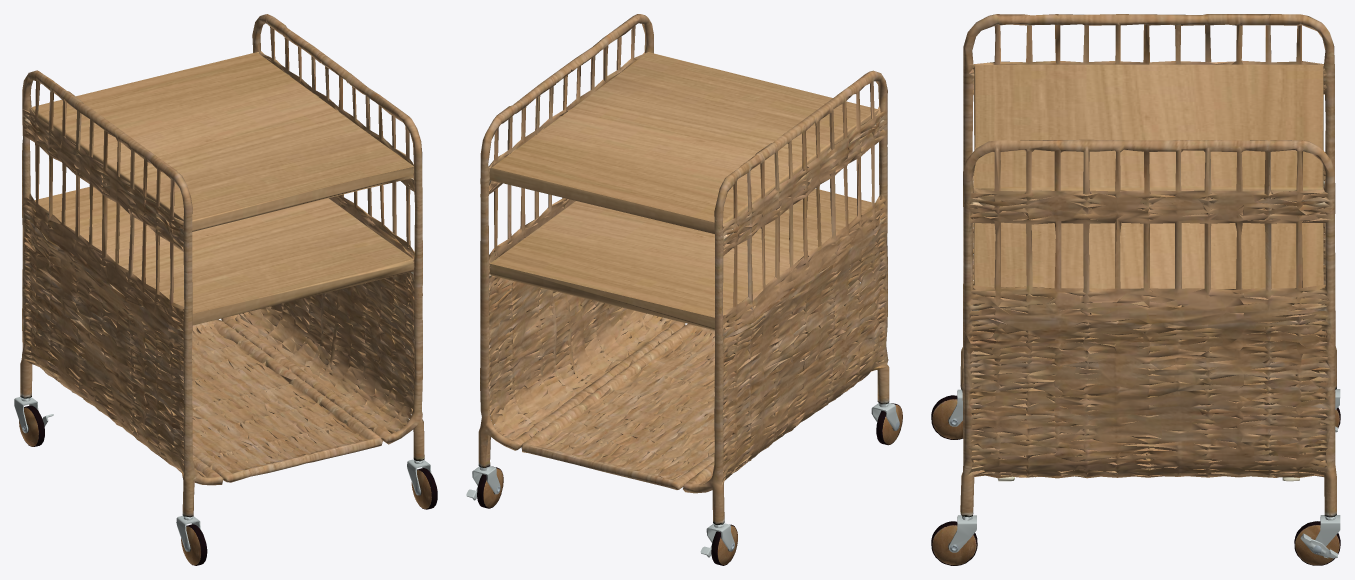
The picture shows the model from 3 angles, left to right: view 1: azimuth 30°, elevation 25°; view 2: azimuth 150°, elevation 25°; view 3: azimuth 270°, elevation 25°; orthographic projection. The views are drawn at different scales.
Parts seen in each view (by area): view 1: ASY_ART_90574174_S01_NV01, ASY_LPT04_90574174_S01_NV01, ASY_LPT01_90574174_S01_NV01, ASY_LPT02_90574174_S01_NV01; view 2: ASY_ART_90574174_S01_NV01, ASY_LPT04_90574174_S01_NV01, ASY_LPT03_90574174_S01_NV01, ASY_LPT01_90574174_S01_NV01; view 3: ASY_ART_90574174_S01_NV01, ASY_LPT03_90574174_S01_NV01, ASY_LPT02_90574174_S01_NV01, ASY_LPT01_90574174_S01_NV01.
Part boxes in pixels (x1,y1,x2,y2): ASY_ART_90574174_S01_NV01: [20, 14, 424, 517]; ASY_LPT04_90574174_S01_NV01: [14, 397, 53, 446]; ASY_LPT01_90574174_S01_NV01: [176, 515, 207, 565]; ASY_LPT02_90574174_S01_NV01: [407, 459, 437, 509]; ASY_ART_90574174_S01_NV01: [478, 14, 889, 524]; ASY_LPT04_90574174_S01_NV01: [700, 523, 737, 565]; ASY_LPT03_90574174_S01_NV01: [466, 466, 503, 508]; ASY_LPT01_90574174_S01_NV01: [871, 402, 902, 445]; ASY_ART_90574174_S01_NV01: [960, 14, 1336, 517]; ASY_LPT03_90574174_S01_NV01: [1294, 515, 1340, 565]; ASY_LPT02_90574174_S01_NV01: [931, 515, 977, 565]; ASY_LPT01_90574174_S01_NV01: [931, 389, 962, 439].
Size of the model in its own units: 0.3702 by 0.5249 by 0.4588.
5 materials, 5 textured.
